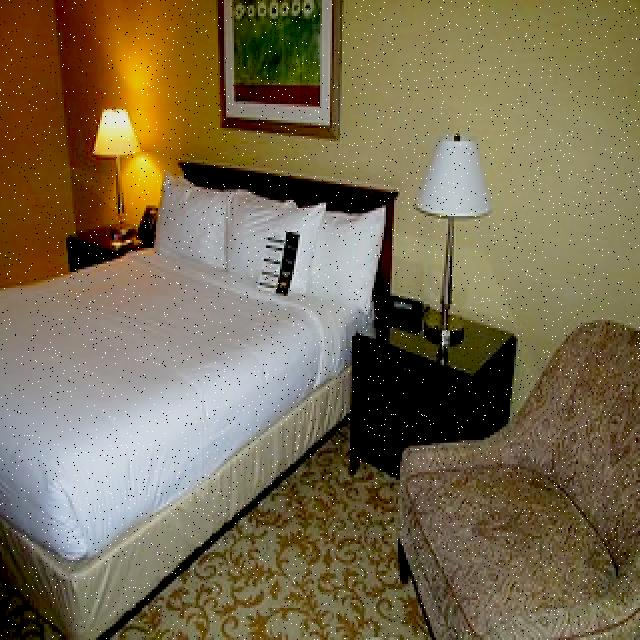bed: (1, 178, 356, 573)
